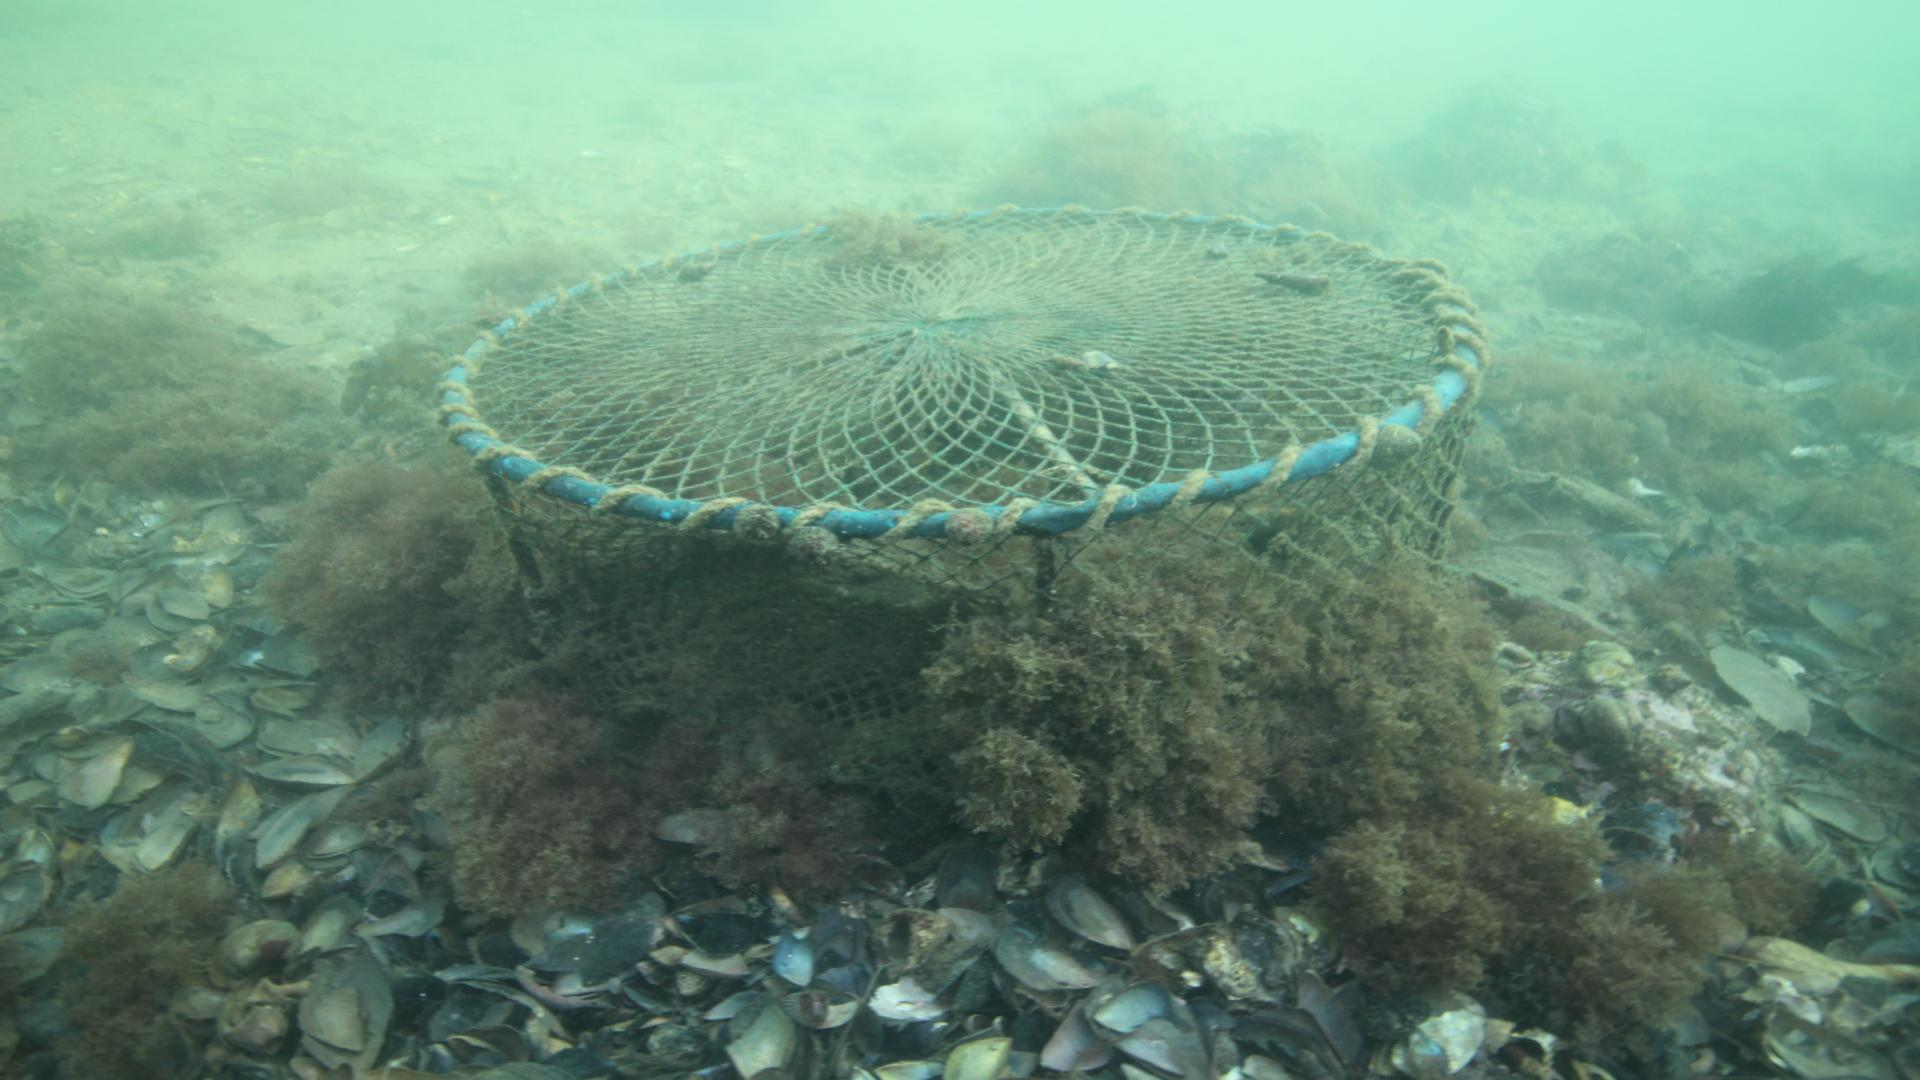circular fish trap: (433, 200, 1490, 794)
